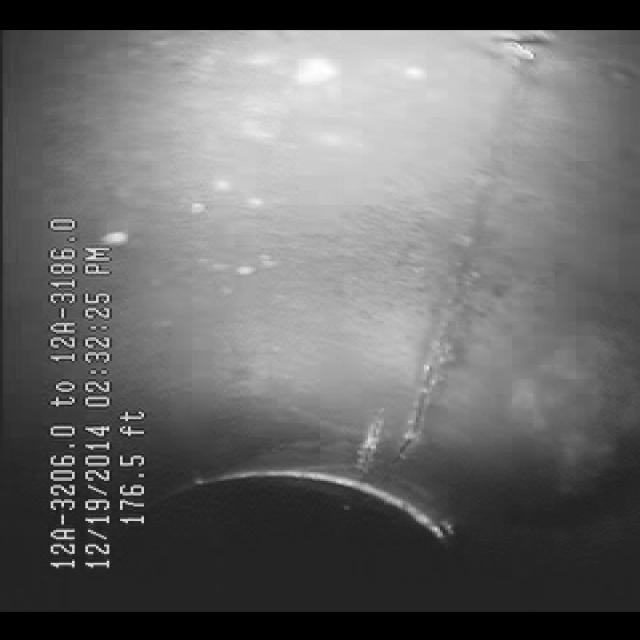Crack: (328, 48, 586, 464)
